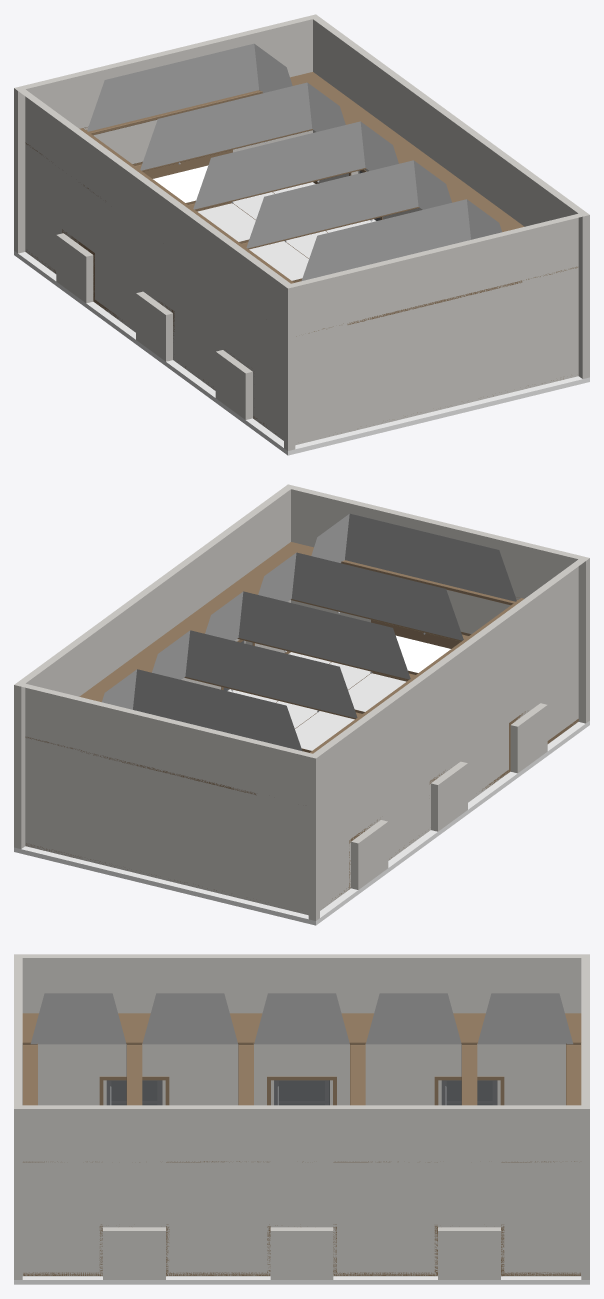
Rendered from T_root_modern_B.glb.
3 renders of one model, top to bottom at view 1: azimuth 30°, elevation 25°; view 2: azimuth 150°, elevation 25°; view 3: azimuth 270°, elevation 25°, orthographic. The views are drawn at different scales.
Parts seen in each view (by area): view 1: Walls, Wells, Floor, DoorFrames, Soffits, Beams, Logo_2, ArtistPanels_2; view 2: Walls, Wells, Floor, DoorFrames, Soffits, Beams, Logo, ArtistPanels; view 3: Walls, Wells, DoorFrames, Beams, Floor, Soffits, DoorLeaves, Skirting.
Part boxes in pixels (bbox=[...]): Walls: bbox=[14, 14, 589, 450]; Wells: bbox=[87, 43, 501, 281]; Floor: bbox=[14, 182, 589, 455]; DoorFrames: bbox=[56, 169, 382, 419]; Soffits: bbox=[25, 72, 577, 336]; Beams: bbox=[83, 90, 522, 324]; Logo_2: bbox=[153, 165, 208, 202]; ArtistPanels_2: bbox=[143, 149, 232, 211]; Walls: bbox=[14, 484, 589, 920]; Wells: bbox=[102, 513, 516, 751]; Floor: bbox=[14, 652, 589, 925]; DoorFrames: bbox=[221, 639, 547, 889]; Soffits: bbox=[25, 542, 524, 753]; Beams: bbox=[81, 560, 519, 795]; Logo: bbox=[396, 635, 450, 672]; ArtistPanels: bbox=[371, 619, 460, 681]; Walls: bbox=[14, 954, 589, 1279]; Wells: bbox=[30, 993, 573, 1044]; DoorFrames: bbox=[99, 1076, 504, 1279]; Beams: bbox=[22, 1043, 581, 1105]; Floor: bbox=[14, 1276, 589, 1284]; Soffits: bbox=[22, 1013, 581, 1162]; DoorLeaves: bbox=[106, 1080, 497, 1105]; Skirting: bbox=[23, 1272, 580, 1275].
Bounding box in the file's own units: 21 × 11.1 × 33.
